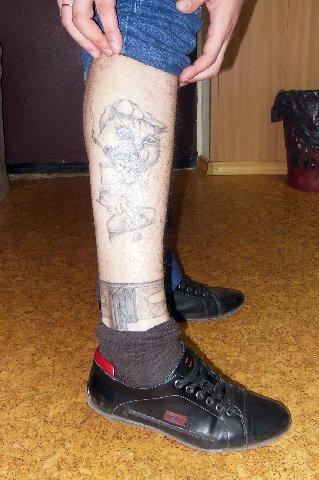tatu8_kot: (82, 86, 171, 249)
